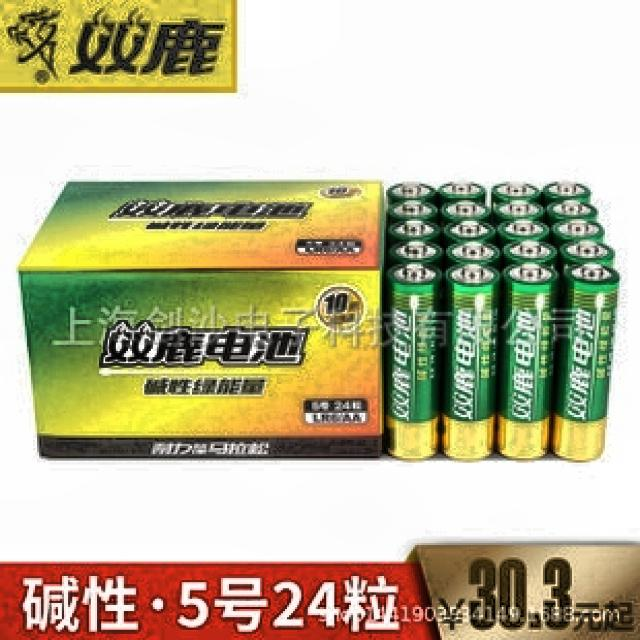Non-Valuable Waste - Batteries: (387, 181, 614, 268), (553, 264, 619, 461), (497, 265, 557, 459), (441, 264, 500, 459), (386, 264, 443, 459)
